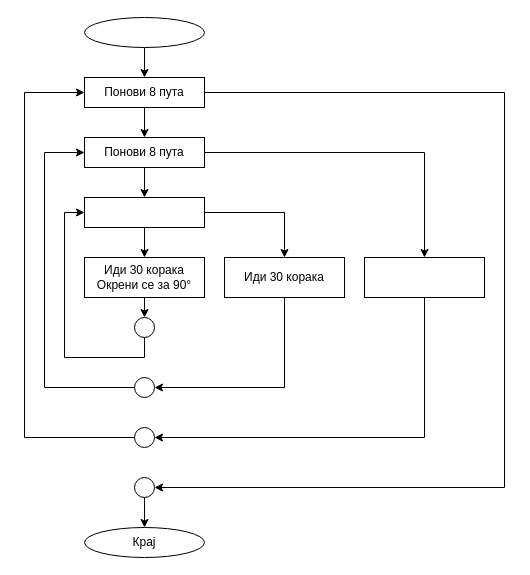
Image size: 530x575. Some labels were removed from this diagram. The shapes that lost their labels are listed below. From the top down, each one's box as (x1, y1, x2, y2) in pixels, then its label:
(84, 16, 204, 48): Почетак
(84, 196, 204, 228): Понови 4 пута
(364, 256, 484, 298): Промени y за -30 Промени x за -240
